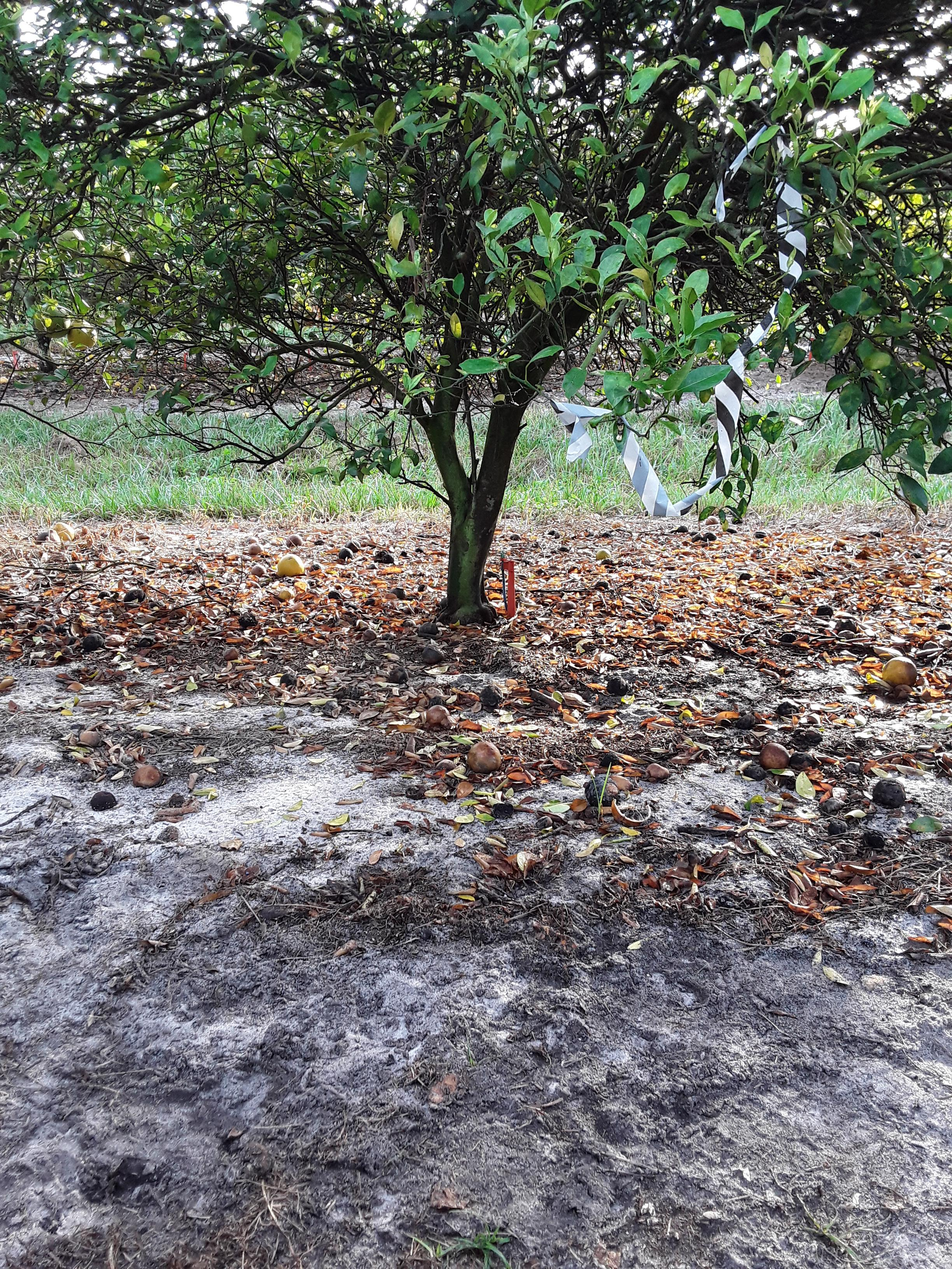fruit_on_ground: (35, 301, 72, 340), (66, 320, 100, 352)
fruit_on_tree: (881, 654, 919, 691), (465, 740, 505, 774), (757, 740, 793, 773), (275, 554, 310, 581), (131, 762, 163, 790), (49, 519, 78, 544), (423, 703, 452, 728), (592, 547, 614, 565), (284, 533, 307, 550), (248, 561, 268, 578), (278, 587, 295, 601), (703, 514, 720, 527), (247, 543, 264, 554)
